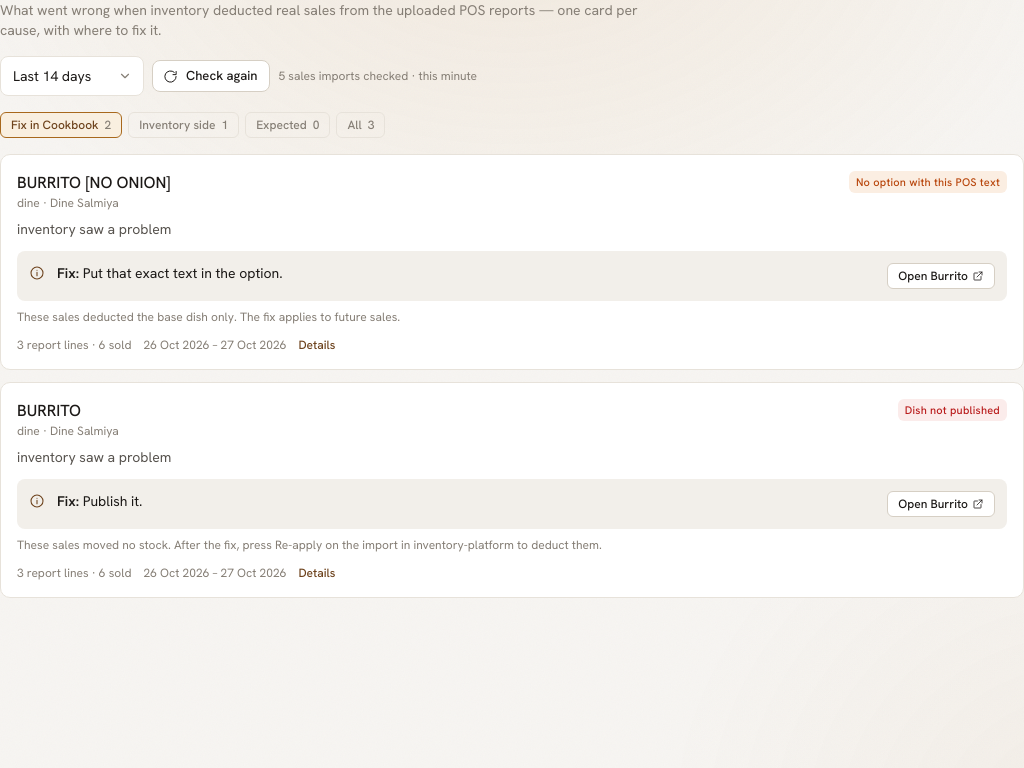
DeductionTab › filters to the inventory side
Expected: the text "BURRITO [NO ONION]" is shown, [17,171,171,195]
Click the tab "Inventory side 1" at (184, 125), box [128,112,239,138]
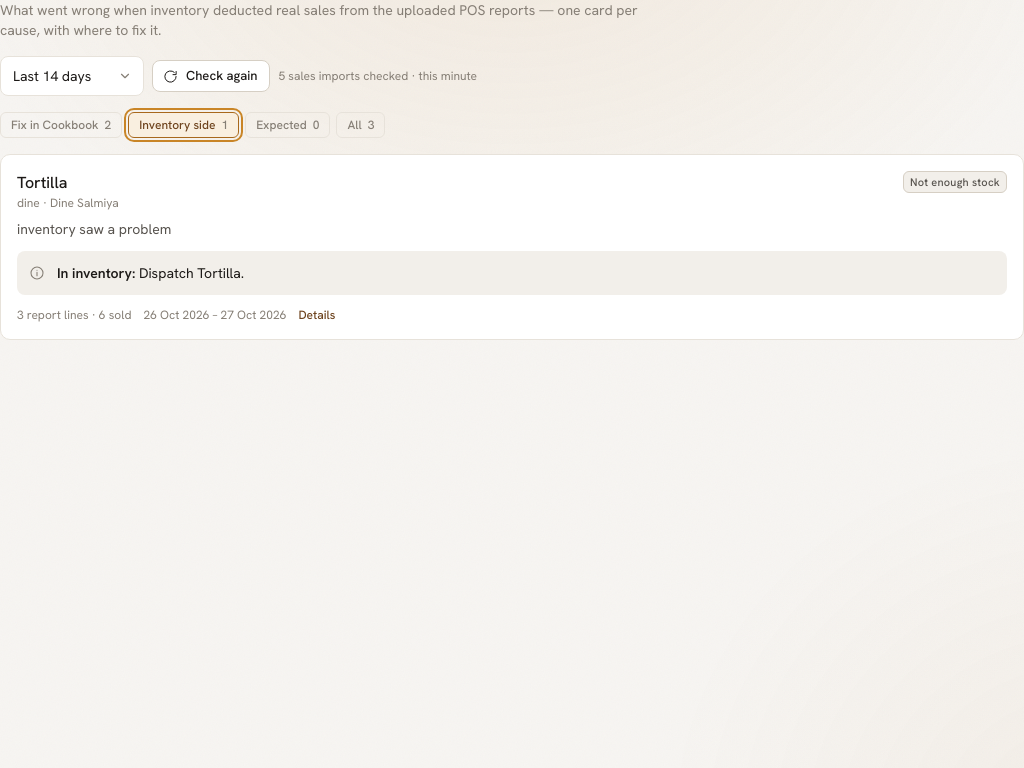
Result: the text "Tortilla" is shown at [17,172,67,193]
Result: the text "Not enough stock" is shown at [903,171,1007,193]
Result: the text "BURRITO [NO ONION]" is gone
